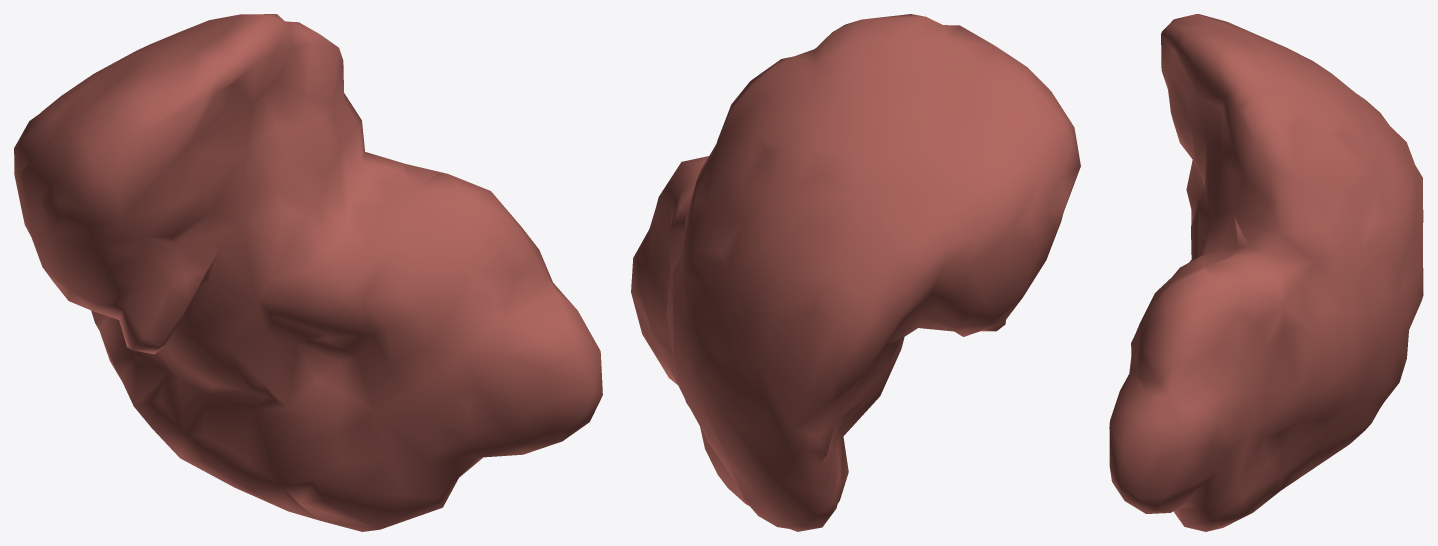
Rendered from tsd_s0196_older_adult_female.lymphatic.LOD3.glb.
3 renders of one model, left to right at view 1: azimuth 30°, elevation 25°; view 2: azimuth 150°, elevation 25°; view 3: azimuth 270°, elevation 25°, orthographic. The views are drawn at different scales.
Parts seen in each view (by area): view 1: TSD_S0196.OLDER_ADULT.FEMALE.LYMPHATIC.SPLEEN; view 2: TSD_S0196.OLDER_ADULT.FEMALE.LYMPHATIC.SPLEEN; view 3: TSD_S0196.OLDER_ADULT.FEMALE.LYMPHATIC.SPLEEN.
Part boxes in pixels (<box>): TSD_S0196.OLDER_ADULT.FEMALE.LYMPHATIC.SPLEEN: <box>14,14,602,531</box>; TSD_S0196.OLDER_ADULT.FEMALE.LYMPHATIC.SPLEEN: <box>631,14,1080,531</box>; TSD_S0196.OLDER_ADULT.FEMALE.LYMPHATIC.SPLEEN: <box>1109,14,1423,531</box>.
Size of the model in its own units: 0.0936 by 0.0966 by 0.0631.
